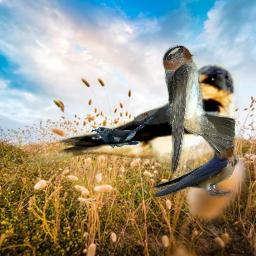Cuckoo: (91, 117, 154, 148)
Swallow: (22, 63, 239, 175), (162, 45, 235, 176), (137, 139, 239, 198)
